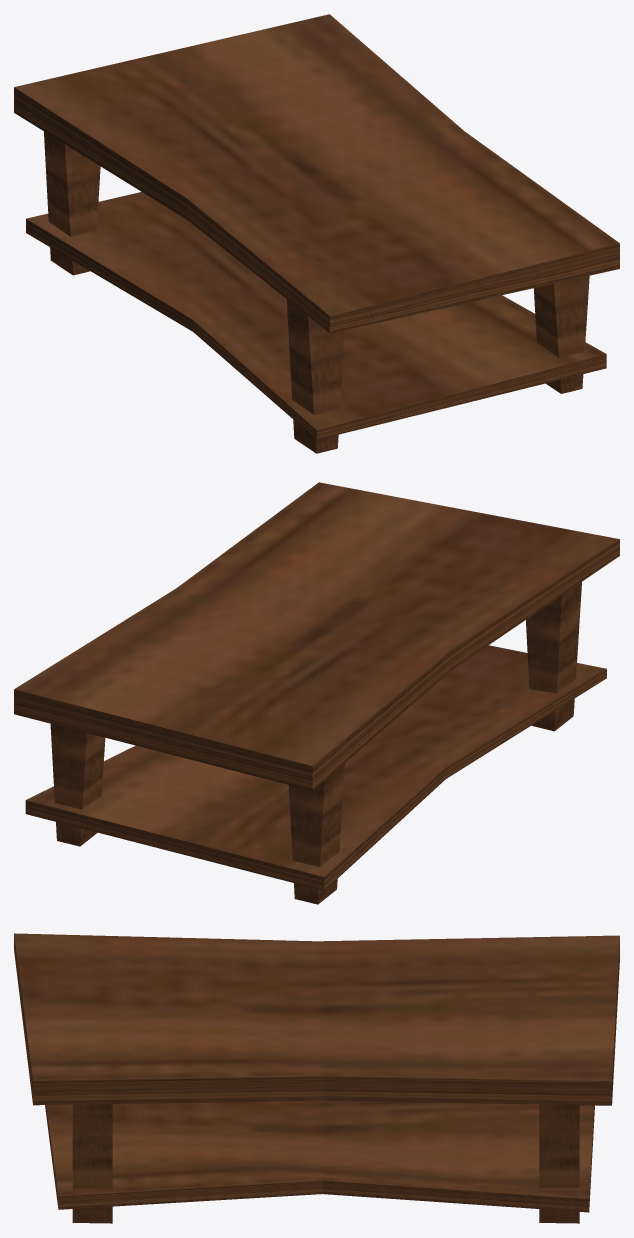
File: ps1_wood_table.glb
3 views of the same model, one above another, from view 1: azimuth 30°, elevation 25°; view 2: azimuth 150°, elevation 25°; view 3: azimuth 270°, elevation 25° (orthographic). The views are drawn at different scales.
Parts seen in each view (by area): view 1: Cube_0, Cube_001_1, Cube_002_2, Cube_005_5, Cube_003_3; view 2: Cube_0, Cube_001_1, Cube_002_2, Cube_005_5, Cube_004_4; view 3: Cube_0, Cube_001_1, Cube_003_3, Cube_004_4.
Boxes of the visible parts, x1=… form: Cube_0: x1=14, y1=14, x2=619, y2=333; Cube_001_1: x1=26, y1=192, x2=606, y2=439; Cube_002_2: x1=286, y1=299, x2=344, y2=453; Cube_005_5: x1=44, y1=131, x2=100, y2=275; Cube_003_3: x1=534, y1=275, x2=589, y2=393; Cube_0: x1=14, y1=482, x2=619, y2=790; Cube_001_1: x1=25, y1=645, x2=606, y2=890; Cube_002_2: x1=526, y1=582, x2=581, y2=731; Cube_005_5: x1=288, y1=763, x2=344, y2=904; Cube_004_4: x1=50, y1=724, x2=105, y2=846; Cube_0: x1=14, y1=933, x2=619, y2=1105; Cube_001_1: x1=45, y1=1100, x2=594, y2=1212; Cube_003_3: x1=72, y1=1104, x2=112, y2=1223; Cube_004_4: x1=539, y1=1104, x2=579, y2=1223.
Bounding box in the file's own units: 1.88 × 0.9468 × 3.31.
Materials: 1 (1 with a texture image).
